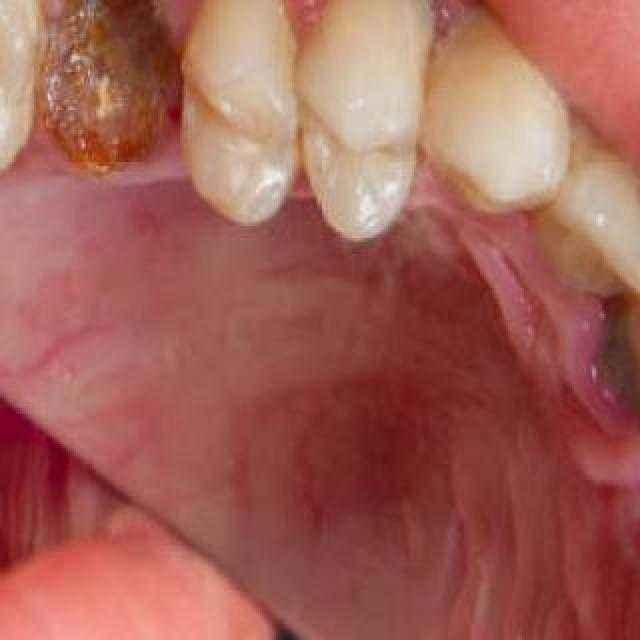calculus: (580, 300, 640, 436), (330, 0, 460, 38)
cavities: (0, 0, 22, 168)
